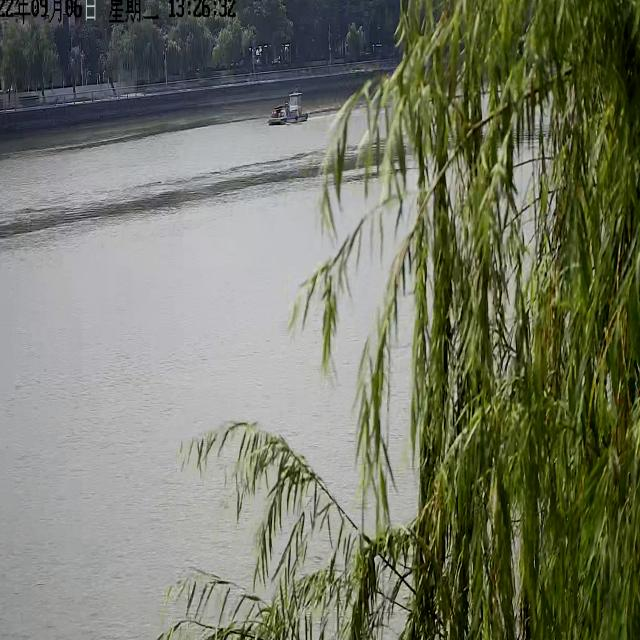ship: (267, 85, 307, 125)
